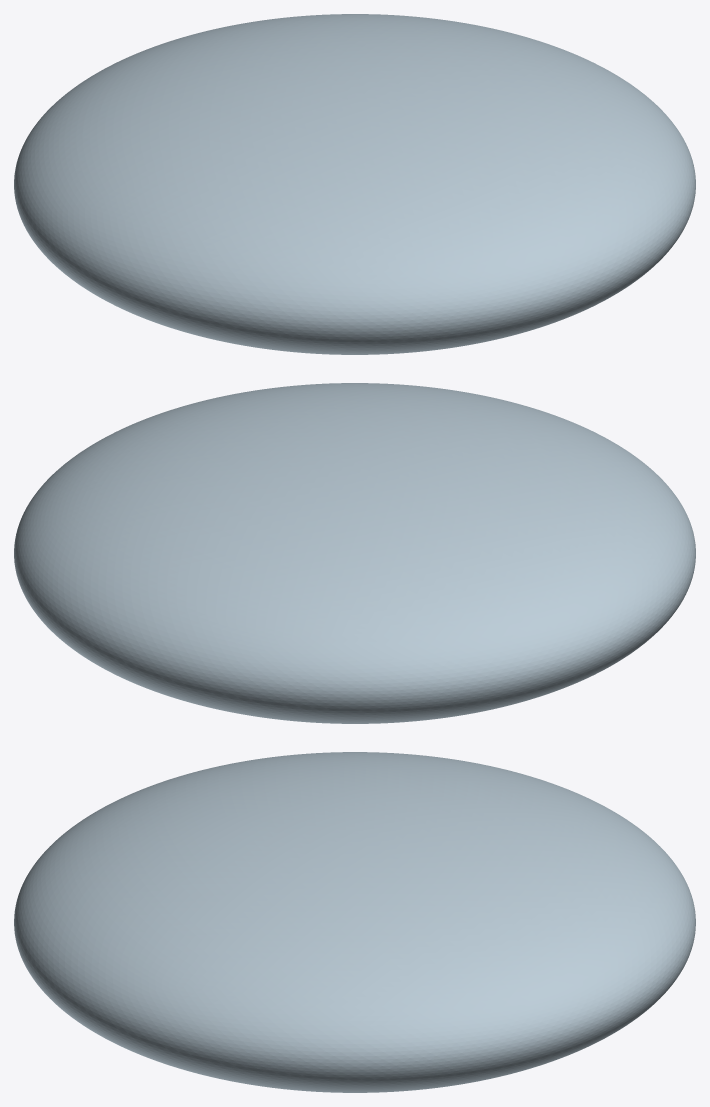
The model's file is StoneWhite.fbx.
The picture shows the model from 3 angles, top to bottom: view 1: azimuth 30°, elevation 25°; view 2: azimuth 150°, elevation 25°; view 3: azimuth 270°, elevation 25°; orthographic projection.
Visible parts, largest first — view 1: Icosphere; view 2: Icosphere; view 3: Icosphere.
Boxes of the visible parts, <box> form: Icosphere: <box>14,14,695,354</box>; Icosphere: <box>14,383,695,723</box>; Icosphere: <box>14,752,695,1092</box>.
Bounding box in the file's own units: 2 × 0.5892 × 2.
